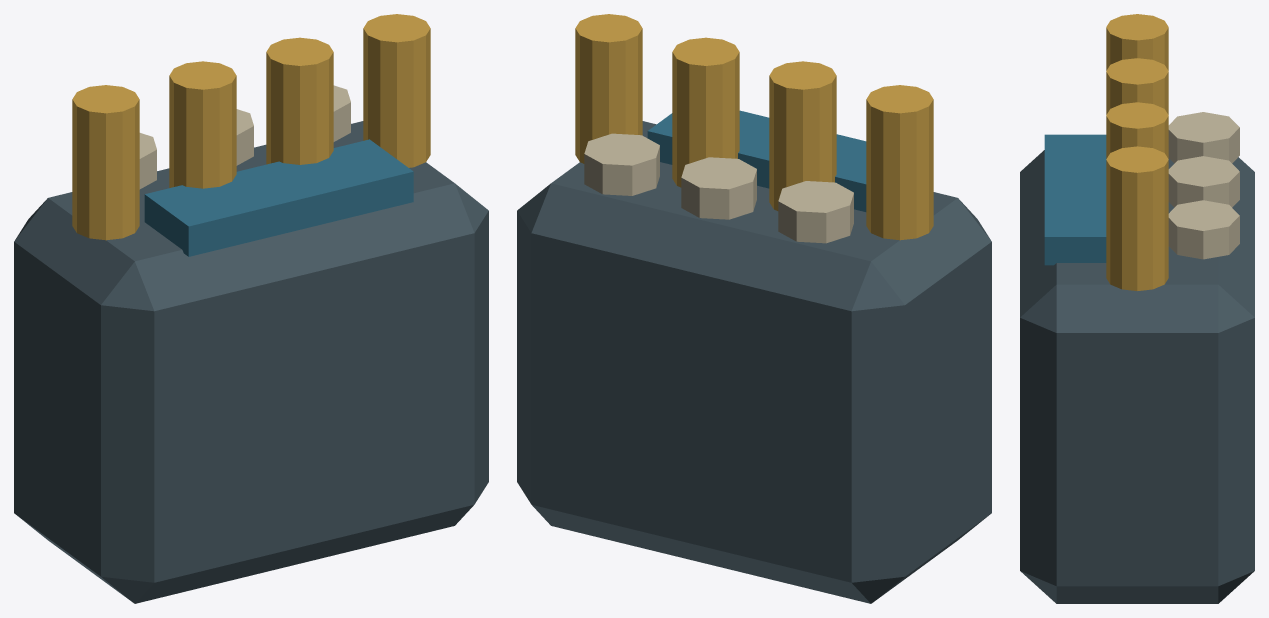
The model's file is set_circuit_board.glb.
The picture shows the model from 3 angles, left to right: view 1: azimuth 30°, elevation 25°; view 2: azimuth 150°, elevation 25°; view 3: azimuth 270°, elevation 25°; orthographic projection. The views are drawn at different scales.
Visible parts, largest first — view 1: set_circuit_board; view 2: set_circuit_board; view 3: set_circuit_board.
Part boxes in pixels (<box>): set_circuit_board: <box>14,14,488,603</box>; set_circuit_board: <box>517,14,991,603</box>; set_circuit_board: <box>1020,14,1254,603</box>.
Size of the model in its own units: 0.16 by 0.185 by 0.09.
